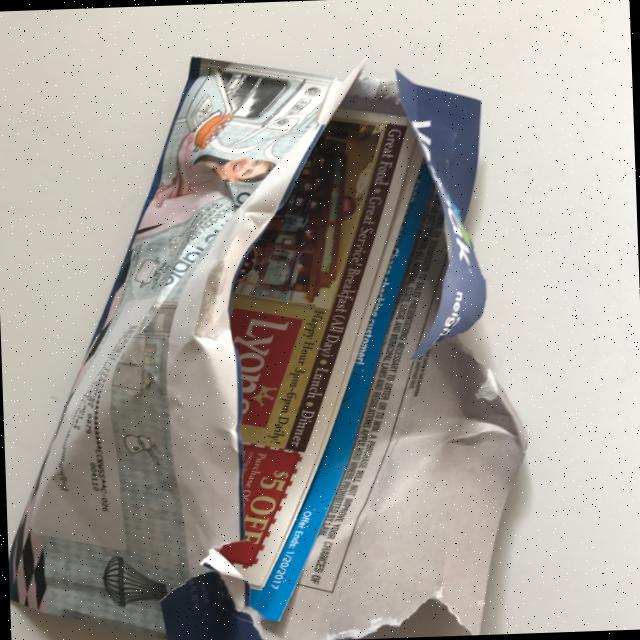paper: (0, 44, 535, 640)
